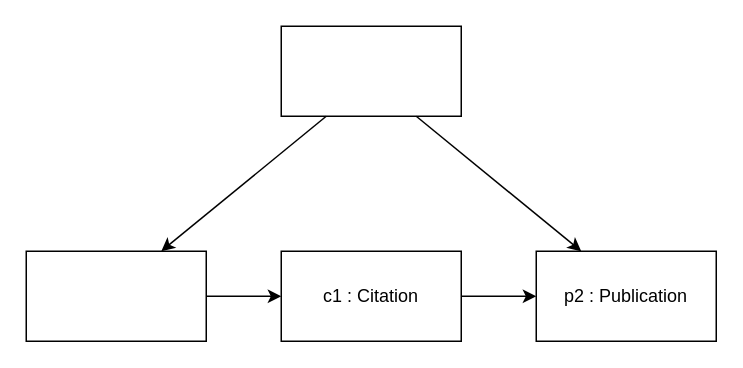
The diagram is 743 pixels wide and 368 high, and some of its shapes have lost their labels. The shapes that lost their labels are listed below. From the top down, each one's centre as x and y in pixels, then its label:
At point (370, 70): "v1 : Venue".
At point (115, 295): "p1 : Publication".
